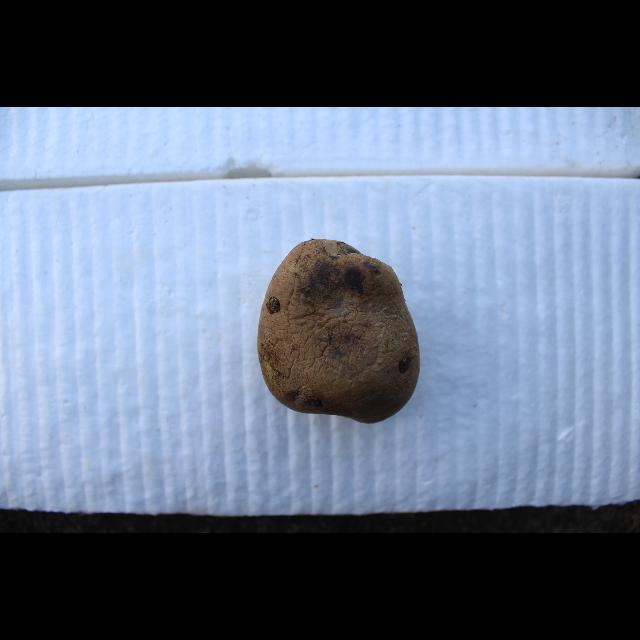Diseased-fungal potato: (255, 238, 420, 426)
